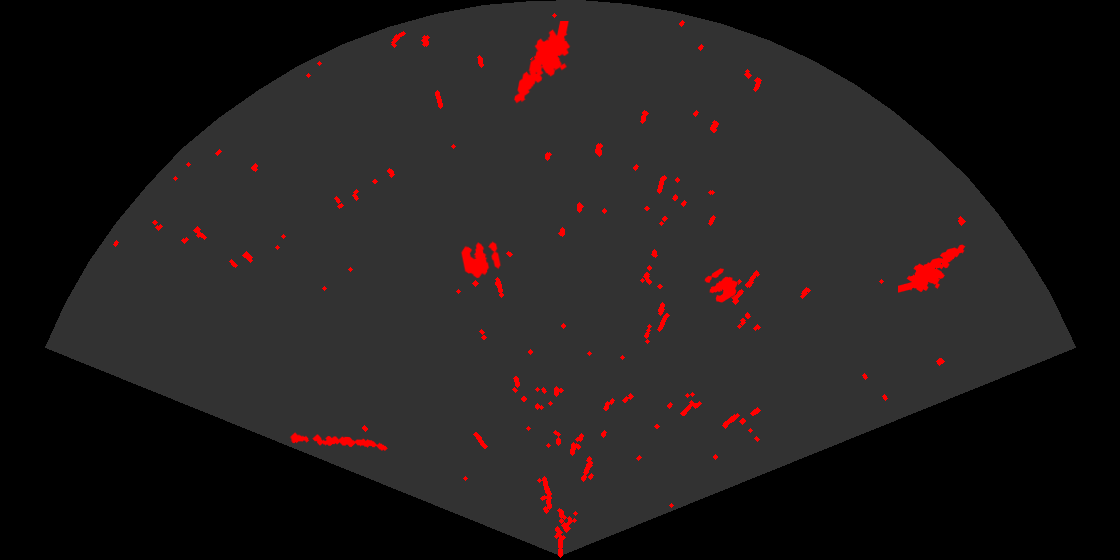ball: (459, 240, 503, 280), (703, 267, 739, 304)
chain: (289, 431, 389, 452)
frogman: (512, 21, 572, 105), (898, 243, 967, 294)
